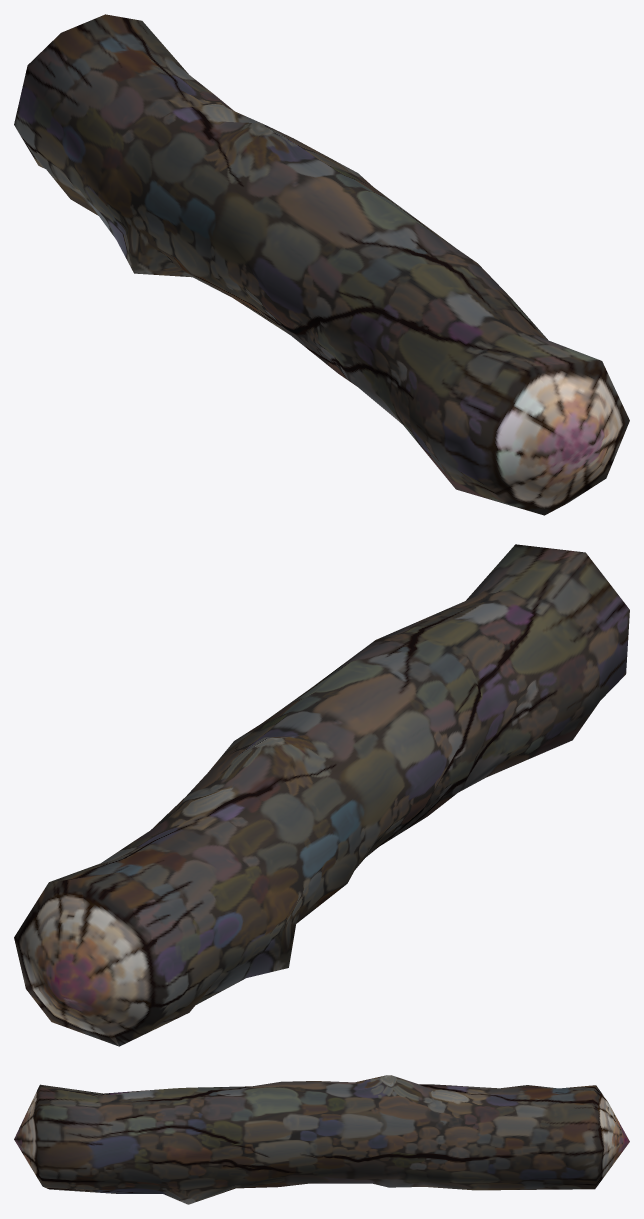
Rendered from wood_log_3.fbx.
3 views of the same model, one above another, from view 1: azimuth 30°, elevation 25°; view 2: azimuth 150°, elevation 25°; view 3: azimuth 270°, elevation 25° (orthographic). The views are drawn at different scales.
Parts seen in each view (by area): view 1: wood_log_3; view 2: wood_log_3; view 3: wood_log_3.
Boxes of the visible parts, <box> form: wood_log_3: <box>14,14,629,515</box>; wood_log_3: <box>14,544,629,1046</box>; wood_log_3: <box>14,1075,629,1204</box>.
Size of the model in its own units: 16.61 by 17.91 by 88.18.
